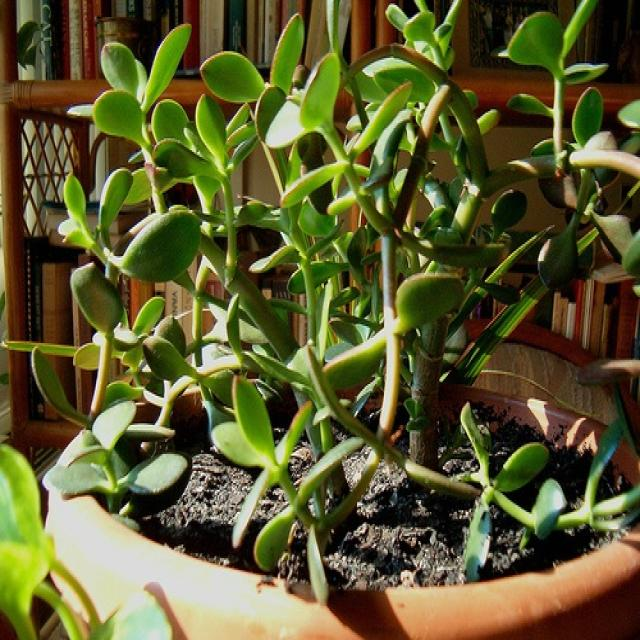pottedplant: (2, 4, 638, 638)
